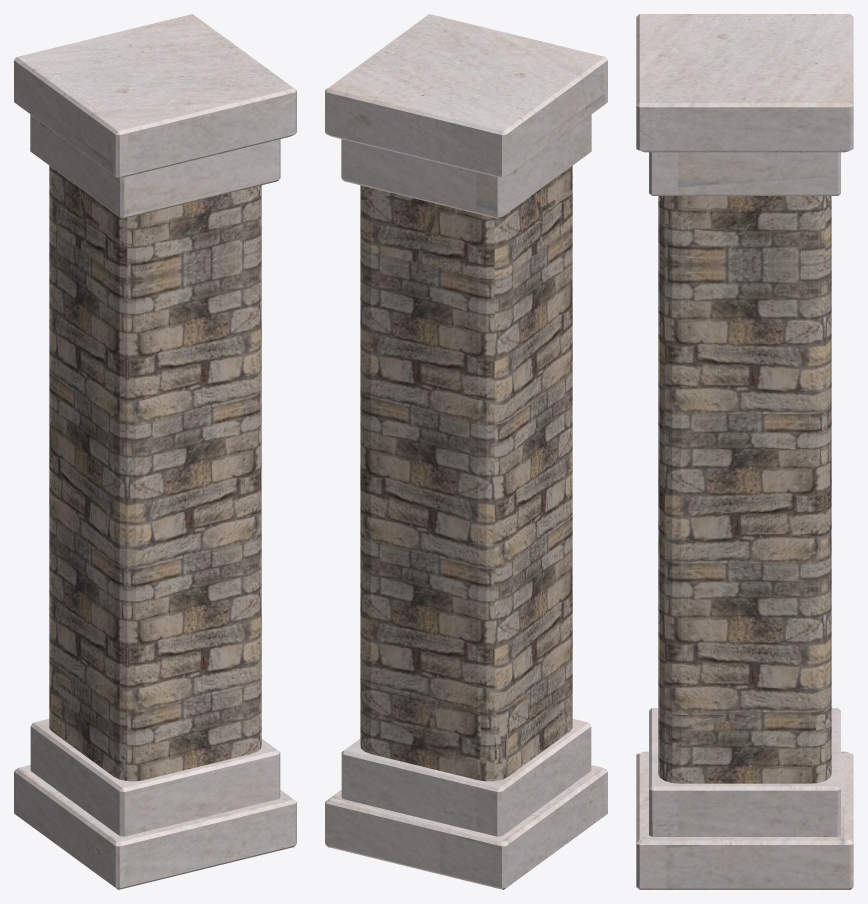
File: Column.gltf
3 renders of one model, left to right at view 1: azimuth 30°, elevation 25°; view 2: azimuth 150°, elevation 25°; view 3: azimuth 270°, elevation 25°, orthographic. The views are drawn at different scales.
Parts seen in each view (by area): view 1: Column_Base, Column_F3, Column_B, Column_F2, Column_F1-rigid, Column_F1-rigid.002, Column_BT, Column_F3-rigid, Column_F2-rigid.003, Column_F3-rigid.005, Column_F2-rigid, Column_F3-rigid.007 (+12 smaller); view 2: Column_Base, Column_F3-rigid.001, Column_F2, Column_F3, Column_F1, Column_F1-rigid.001, Column_B-rigid, Column_F2-rigid.005, Column_BT-rigid.004, Column_F1-rigid.003, Column_B, Column_F3-rigid.004 (+13 smaller); view 3: Column_Base, Column_F2-rigid.004, Column_F3-rigid, Column_F3, Column_F1, Column_F2, Column_F1-rigid.001, Column_F1-rigid.004, Column_BT, Column_B, Column_F1-rigid.006, Column_F3-rigid.004 (+5 smaller).
Boxes of the visible parts, box(x1,y1,x2,y2) form: Column_Base: box(14, 14, 296, 889); Column_F3: box(49, 228, 261, 424); Column_B: box(49, 660, 261, 781); Column_F2: box(49, 372, 261, 568); Column_F1-rigid: box(97, 536, 261, 654); Column_F1-rigid.002: box(50, 612, 223, 712); Column_BT: box(49, 186, 261, 280); Column_F3-rigid: box(118, 273, 261, 366); Column_F2-rigid.003: box(91, 485, 260, 568); Column_F3-rigid.005: box(125, 351, 261, 424); Column_F2-rigid: box(82, 398, 184, 513); Column_F3-rigid.007: box(102, 247, 261, 318); Column_Base: box(325, 14, 607, 889); Column_F3-rigid.001: box(360, 240, 571, 414); Column_F2: box(360, 389, 567, 568); Column_F3: box(360, 240, 572, 424); Column_F1: box(360, 518, 572, 712); Column_F1-rigid.001: box(360, 585, 473, 706); Column_B-rigid: box(361, 682, 572, 778); Column_F2-rigid.005: box(360, 392, 543, 513); Column_BT-rigid.004: box(420, 194, 539, 278); Column_F1-rigid.003: box(445, 558, 529, 679); Column_B: box(360, 660, 572, 781); Column_F3-rigid.004: box(360, 246, 473, 344); Column_Base: box(636, 14, 853, 889); Column_F2-rigid.004: box(658, 414, 829, 563); Column_F3-rigid: box(658, 268, 822, 413); Column_F3: box(658, 256, 831, 413); Column_F1: box(658, 554, 831, 712); Column_F2: box(660, 405, 831, 563); Column_F1-rigid.001: box(736, 610, 831, 712); Column_F1-rigid.004: box(682, 558, 830, 615); Column_BT: box(658, 197, 831, 264); Column_B: box(658, 704, 831, 762); Column_F1-rigid.006: box(658, 571, 724, 712); Column_F3-rigid.004: box(756, 260, 831, 362).
Size of the model in its own units: 2.5 by 10 by 2.5.
3 materials, 3 textured.
